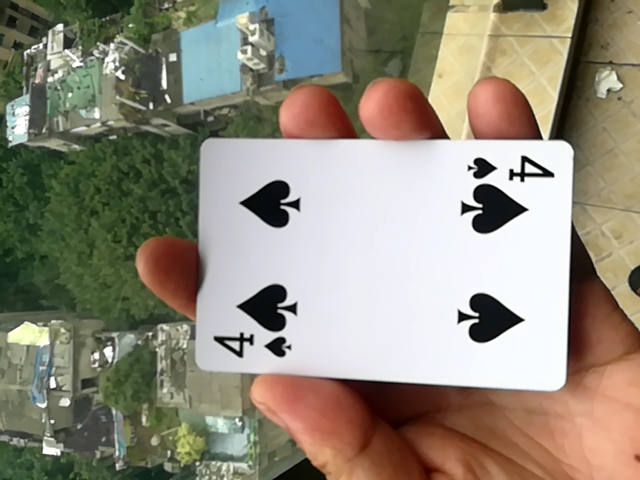ht 4: (182, 136, 565, 394)
